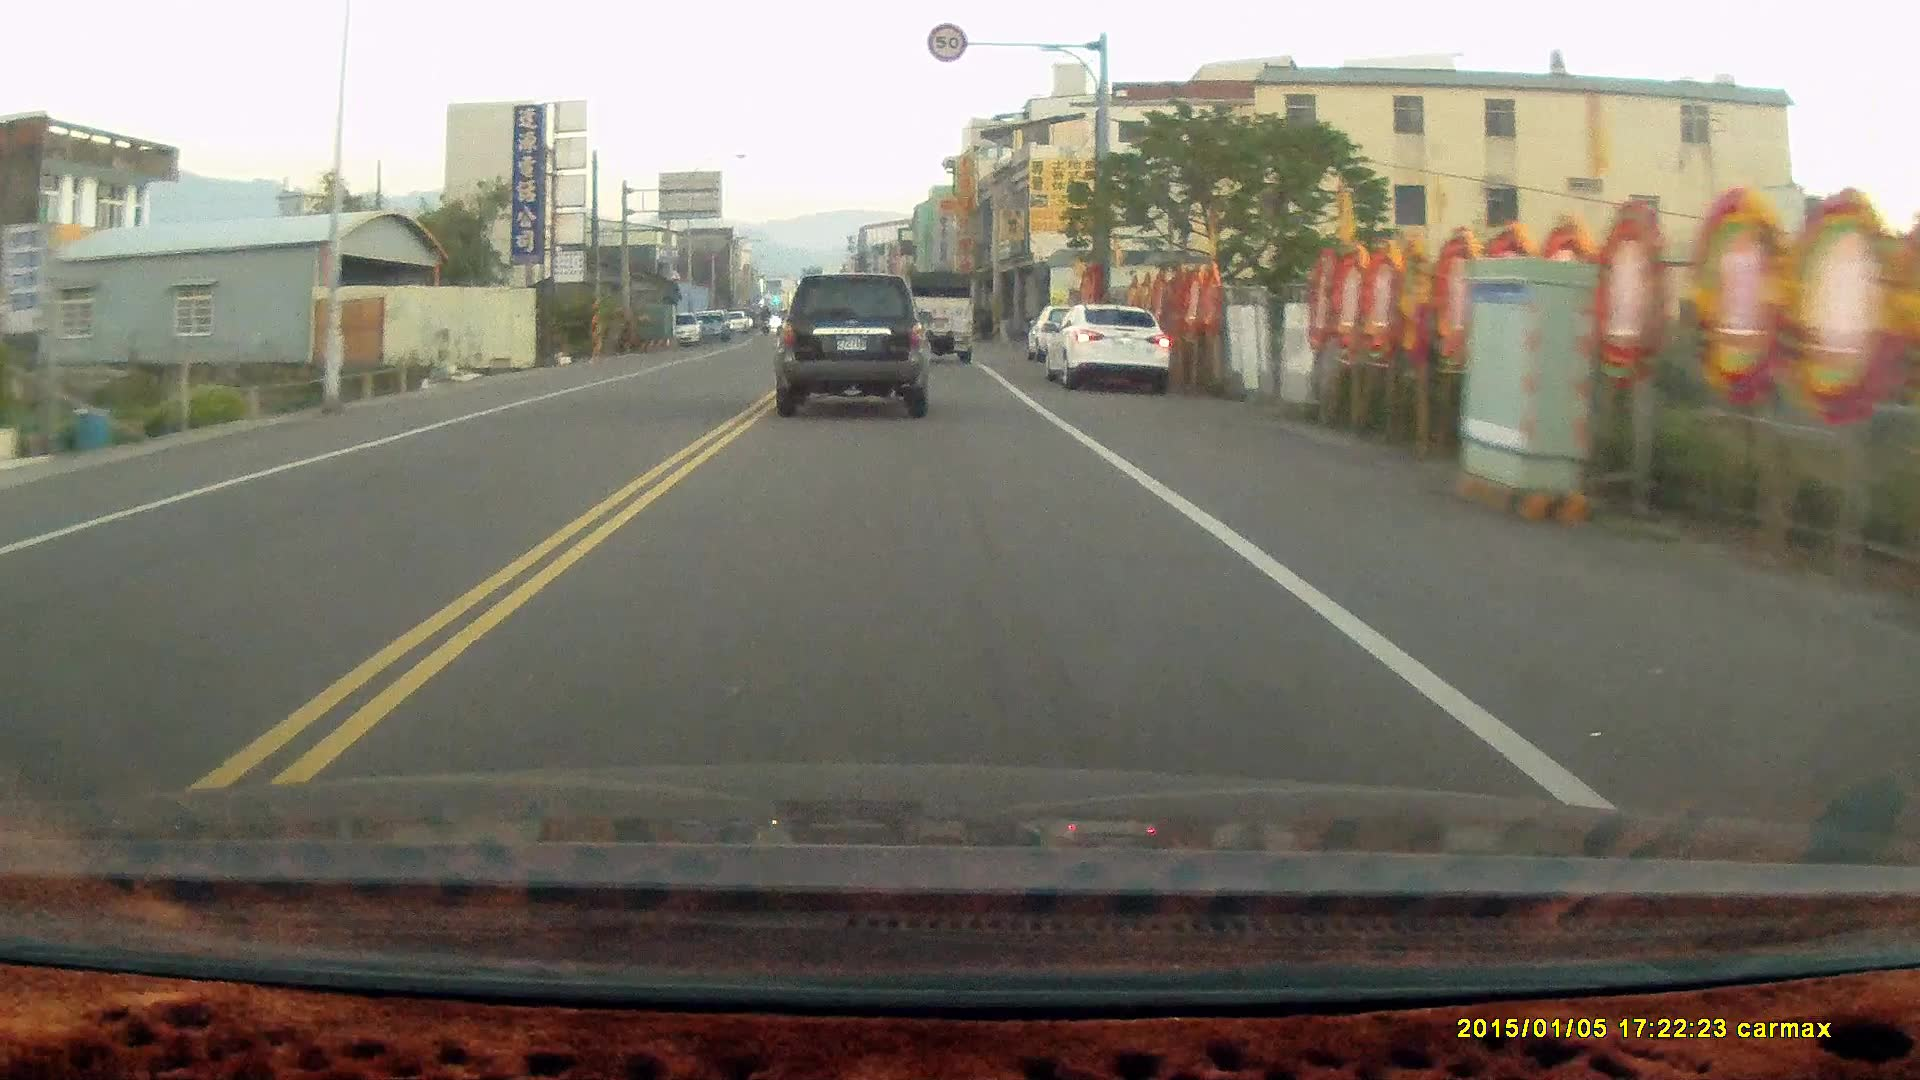vehicle: (774, 261, 935, 410), (1050, 303, 1172, 392), (902, 266, 981, 361)
